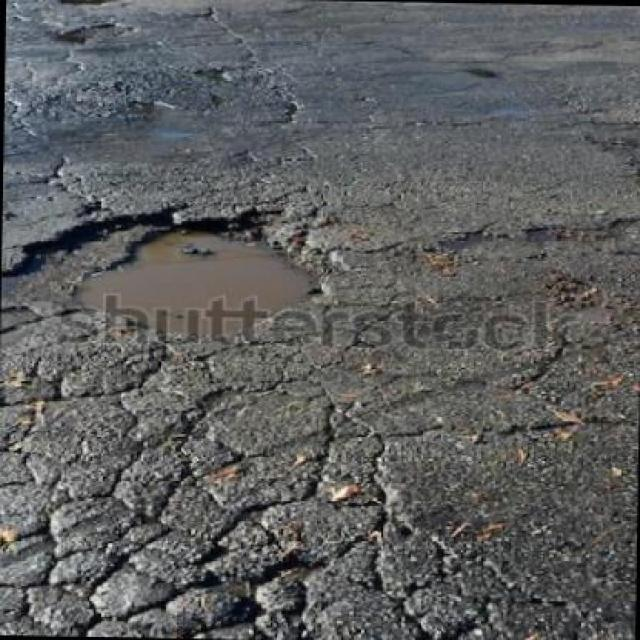pothole1: (8, 192, 350, 343), (50, 19, 142, 43), (46, 0, 131, 8)
